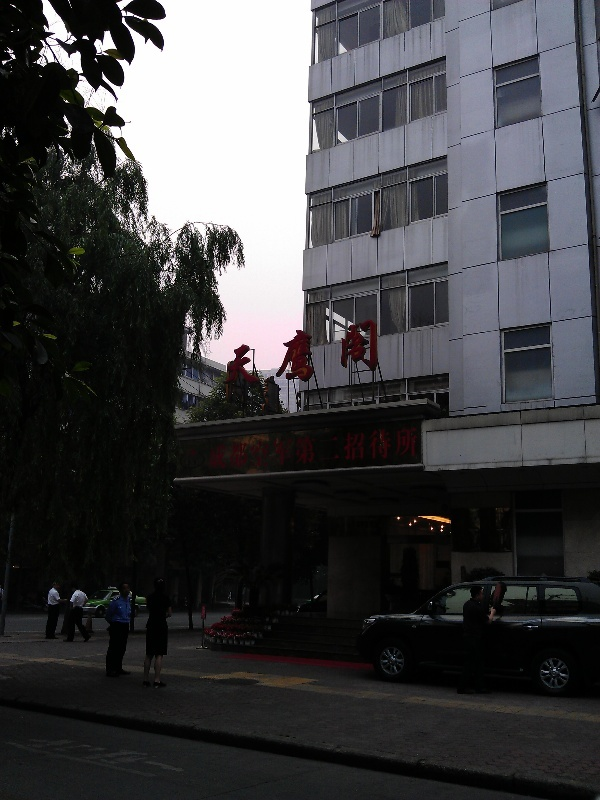text: (241, 314, 256, 391), (257, 314, 272, 391), (273, 314, 288, 391), (289, 314, 304, 391), (305, 314, 320, 391), (321, 314, 336, 391), (337, 314, 352, 391), (353, 314, 368, 391), (369, 314, 379, 391), (209, 422, 224, 473), (225, 422, 240, 473), (241, 422, 256, 473), (257, 422, 272, 473), (273, 422, 288, 473), (289, 422, 304, 473), (305, 422, 320, 473), (321, 422, 336, 473), (337, 422, 352, 473), (353, 422, 368, 473), (369, 422, 384, 473), (385, 422, 400, 473), (401, 422, 416, 473), (232, 314, 240, 391), (417, 422, 425, 473), (204, 422, 208, 473)
